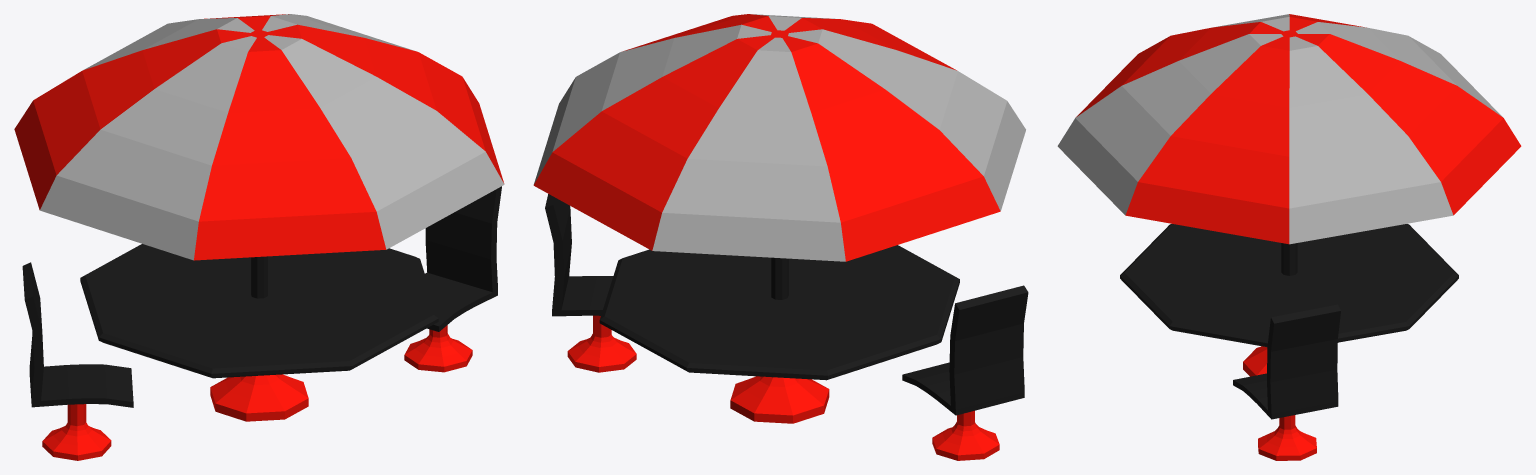
File: outdoorseating.obj
3 renders of one model, left to right at view 1: azimuth 30°, elevation 25°; view 2: azimuth 150°, elevation 25°; view 3: azimuth 270°, elevation 25°, orthographic. The views are drawn at different scales.
Visible parts, largest first — view 1: Circle, Circle.001; view 2: Circle, Circle.001; view 3: Circle, Circle.001.
Part boxes in pixels (x1=…): Circle: x1=14, y1=14, x2=504, y2=421; Circle.001: x1=22, y1=186, x2=501, y2=460; Circle: x1=533, y1=14, x2=1025, y2=423; Circle.001: x1=545, y1=194, x2=1028, y2=460; Circle: x1=1057, y1=14, x2=1521, y2=376; Circle.001: x1=1233, y1=304, x2=1340, y2=460.
Size of the model in its own units: 10.79 by 7.96 by 9.98.
